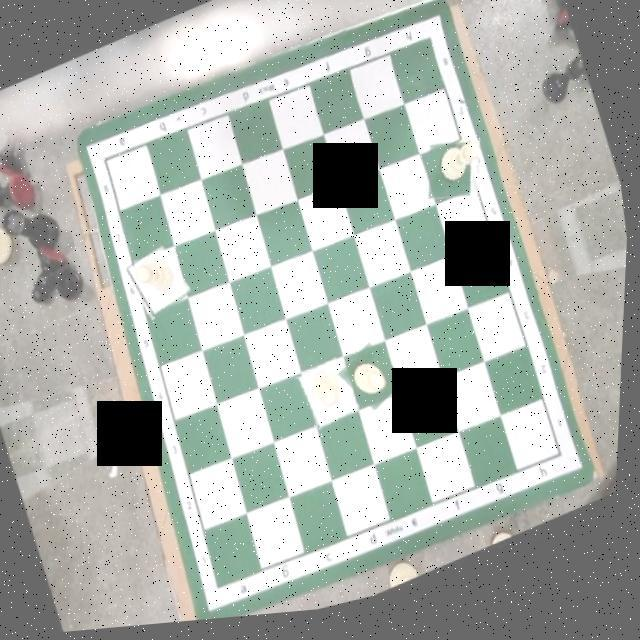chess-table-corners: (85, 140, 135, 181), (538, 444, 580, 484), (204, 570, 244, 605), (410, 30, 444, 64)
